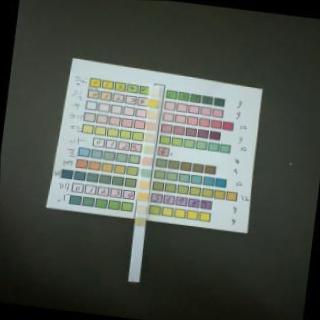mark: (142, 144, 154, 154), (134, 217, 146, 226), (140, 168, 150, 178), (150, 86, 160, 96), (137, 192, 148, 201), (148, 99, 159, 108), (144, 122, 156, 130), (136, 204, 146, 213), (138, 180, 148, 188), (142, 156, 152, 164), (145, 134, 155, 142), (148, 110, 158, 118)
